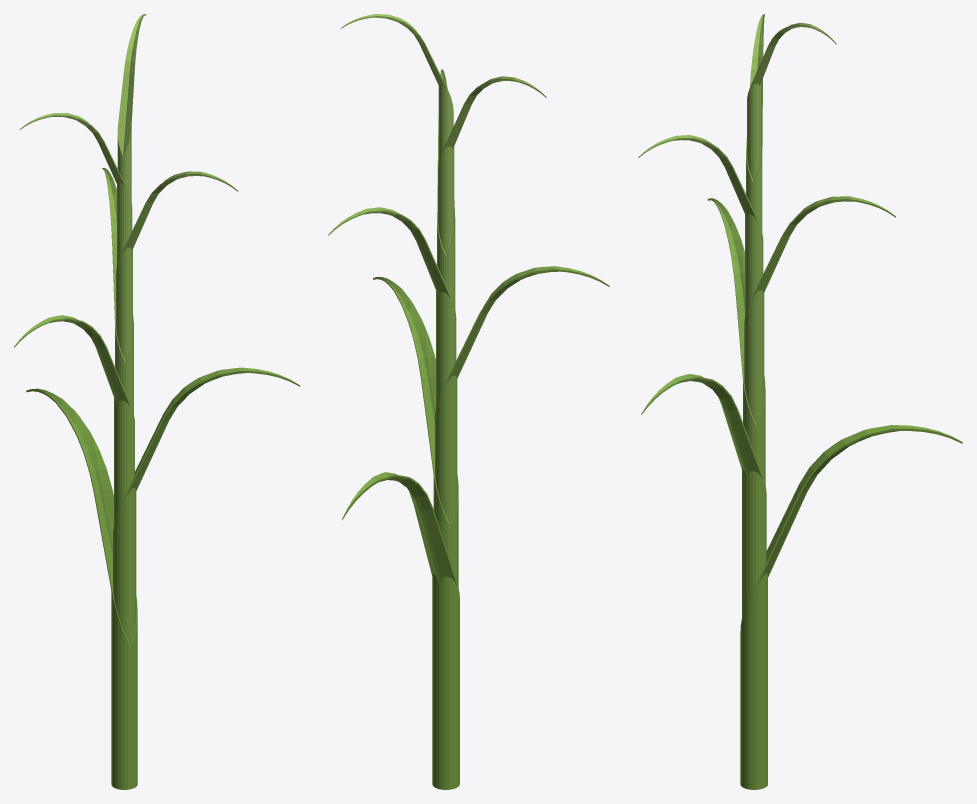
File: grass (1).glb
3 renders of one model, left to right at view 1: azimuth 30°, elevation 25°; view 2: azimuth 150°, elevation 25°; view 3: azimuth 270°, elevation 25°, orthographic. The views are drawn at different scales.
Visible parts, largest first — view 1: Mesh_Mesh_head_geo.001_lambert2SG.001; view 2: Mesh_Mesh_head_geo.001_lambert2SG.001; view 3: Mesh_Mesh_head_geo.001_lambert2SG.001.
Boxes of the visible parts, x1,y1,x2,y2 form: Mesh_Mesh_head_geo.001_lambert2SG.001: (14,14,299,789); Mesh_Mesh_head_geo.001_lambert2SG.001: (328,14,609,789); Mesh_Mesh_head_geo.001_lambert2SG.001: (638,14,962,789).
Size of the model in its own units: 11.61 by 32 by 12.06.
